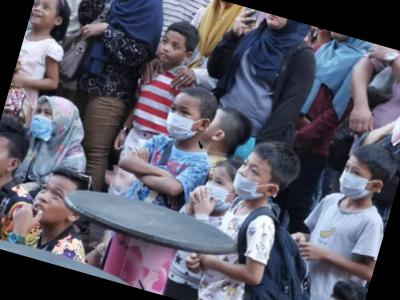mask_weared_incorrect: (229, 154, 276, 206)
with_mask: (334, 158, 378, 204), (161, 100, 204, 146), (198, 171, 239, 215), (26, 103, 61, 142)
without_mask: (26, 178, 81, 230), (156, 33, 189, 68)
